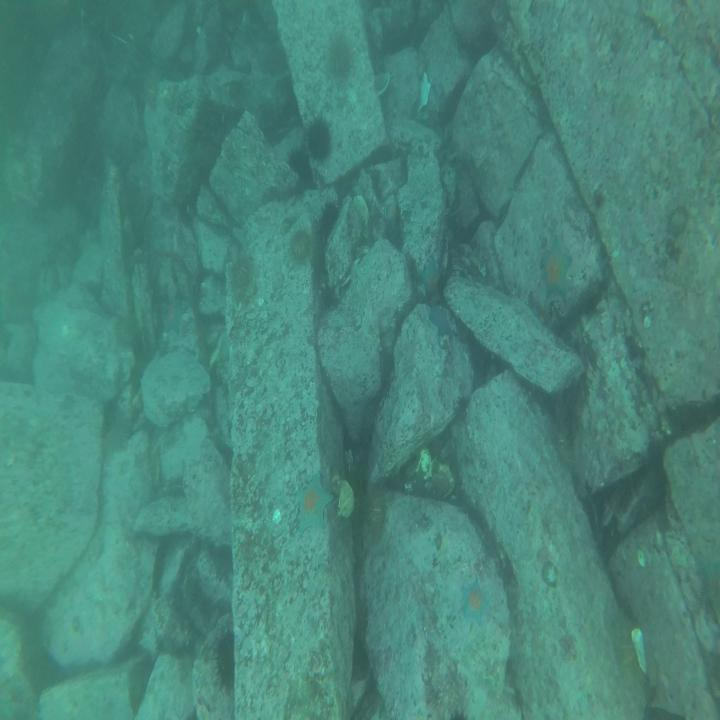echinus: (190, 96, 221, 151), (305, 115, 334, 164), (327, 29, 354, 81), (217, 632, 237, 688), (230, 245, 251, 296), (287, 228, 312, 262)
scallop: (334, 479, 356, 523)
starfish: (292, 480, 333, 538), (540, 242, 577, 302), (459, 571, 491, 628)
